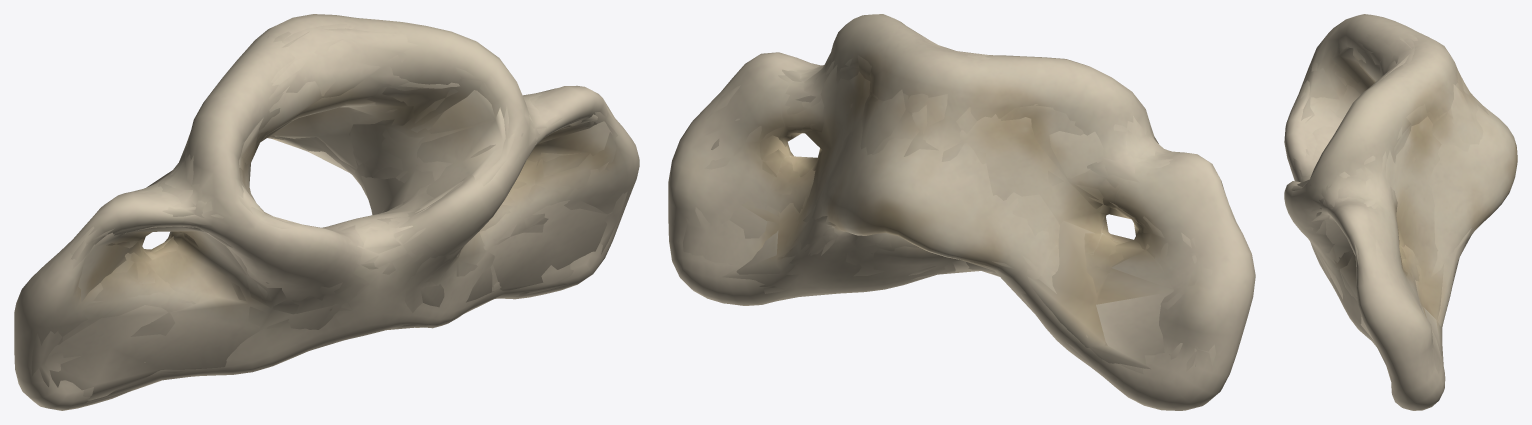
File: vertebra cervicalis 1 atlas.fbx
3 views of the same model, side by side, from view 1: azimuth 30°, elevation 25°; view 2: azimuth 150°, elevation 25°; view 3: azimuth 270°, elevation 25° (orthographic). The views are drawn at different scales.
Parts seen in each view (by area): view 1: vertebra cervicalis 1 atlas high, vertebra cervicalis 1 atlas low, vertebra cervicalis 1 atlas; view 2: vertebra cervicalis 1 atlas high, vertebra cervicalis 1 atlas low, vertebra cervicalis 1 atlas; view 3: vertebra cervicalis 1 atlas high, vertebra cervicalis 1 atlas low, vertebra cervicalis 1 atlas.
Part boxes in pixels (box(x1,y1,x2,y2)): vertebra cervicalis 1 atlas high: box(14, 14, 639, 410); vertebra cervicalis 1 atlas low: box(48, 28, 612, 400); vertebra cervicalis 1 atlas: box(31, 17, 627, 402); vertebra cervicalis 1 atlas high: box(668, 14, 1255, 410); vertebra cervicalis 1 atlas low: box(711, 30, 1235, 369); vertebra cervicalis 1 atlas: box(673, 25, 1234, 381); vertebra cervicalis 1 atlas high: box(1284, 14, 1517, 410); vertebra cervicalis 1 atlas low: box(1297, 36, 1488, 380); vertebra cervicalis 1 atlas: box(1291, 33, 1483, 389).
Size of the model in its own units: 14.54 by 7.38 by 5.91.
1 material, 1 textured.
